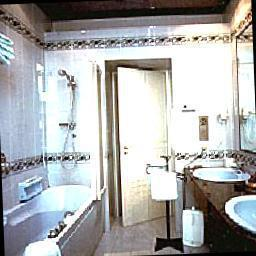Lavamanos: (189, 161, 256, 185), (224, 192, 256, 238)
Puerta: (116, 69, 173, 227)
